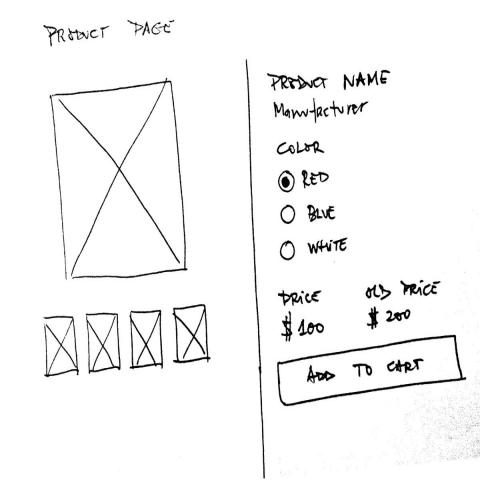Button: (278, 334, 466, 409)
Image: (48, 79, 189, 282), (129, 307, 168, 374), (172, 303, 212, 368), (43, 314, 82, 379), (84, 311, 122, 376)
Radio Button: (279, 237, 349, 263), (275, 168, 330, 195), (279, 201, 336, 227)
